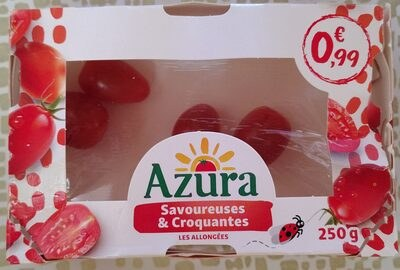Tomates Cerises: (20, 13, 380, 256)
